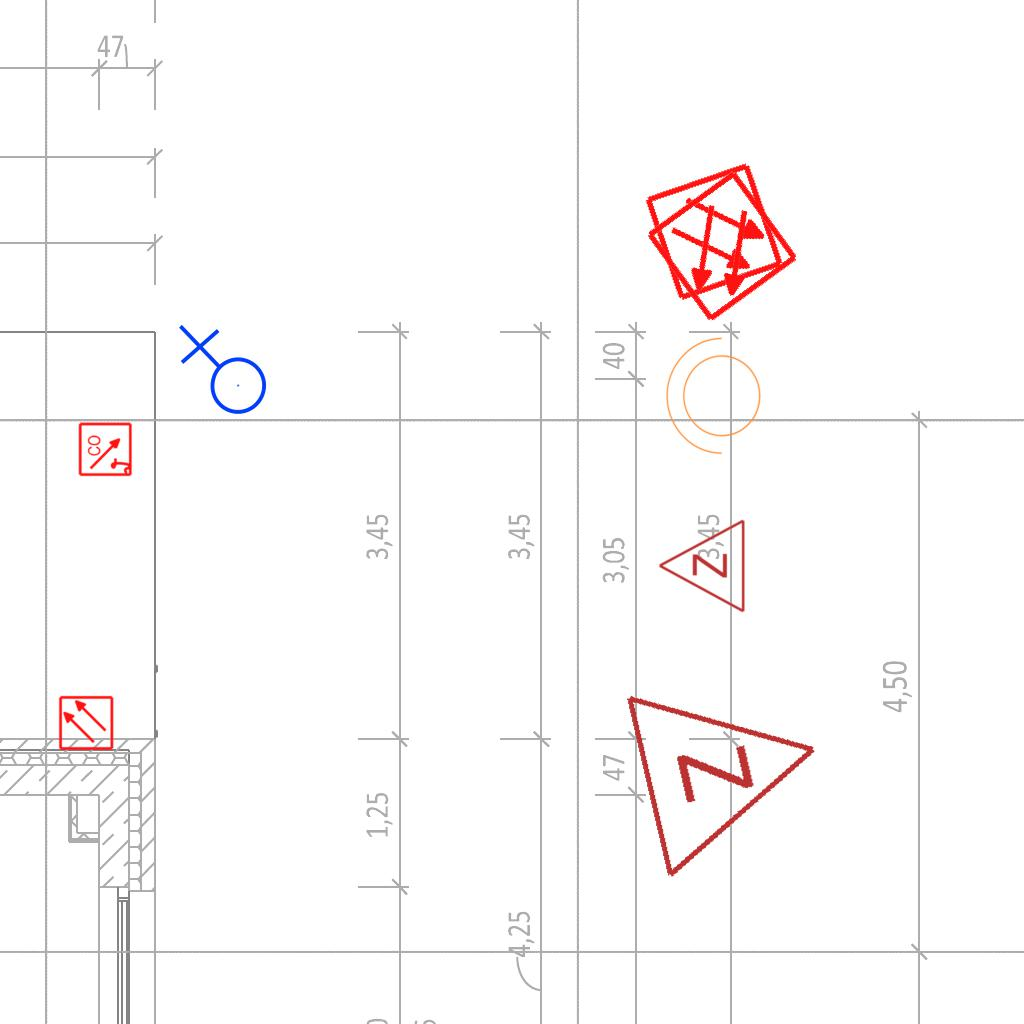Elektroanschluss_allgemein_230V_Geraeteanschlussdose_230V: (174, 324, 268, 423)
RMO_Rauchmelder_optischer: (643, 167, 802, 326), (642, 159, 787, 304), (58, 695, 114, 751)
ROA_Rauchmelder_optisch_mit_Signalgeber_(Sockelsirene): (78, 421, 134, 477)
Scheinwerfer_fuer_Alarmbeleuchtung: (661, 333, 773, 465)
Zimmersignalleuchte: (610, 648, 850, 884), (652, 518, 752, 616)
